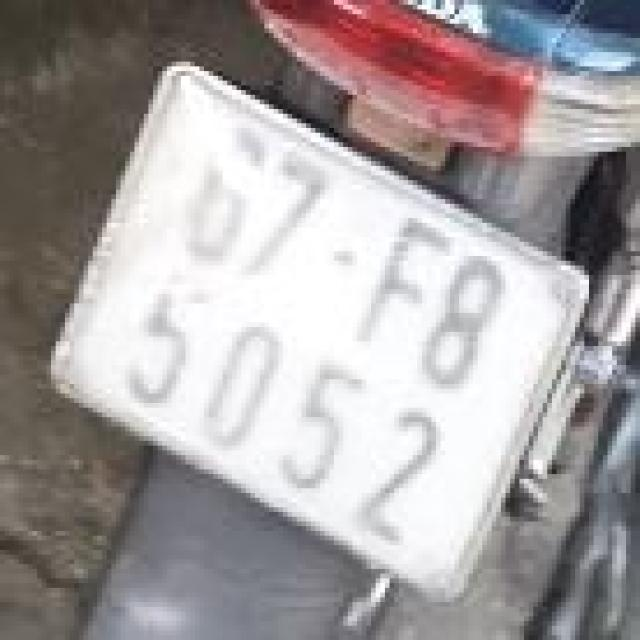0: (195, 305, 304, 461)
2: (346, 392, 477, 554)
5: (109, 261, 236, 418), (263, 345, 382, 494)
6: (172, 115, 282, 274)
7: (229, 139, 346, 295)
8: (411, 237, 534, 401)
F: (345, 202, 466, 365)
